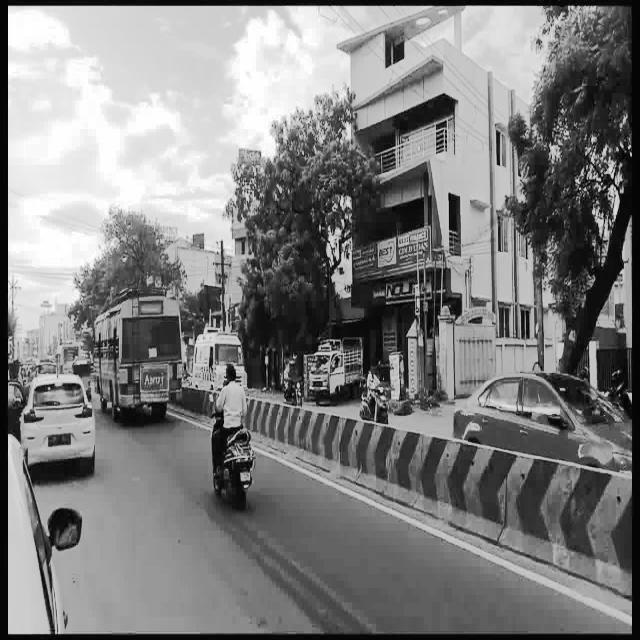Ambulance: (192, 325, 248, 392)
